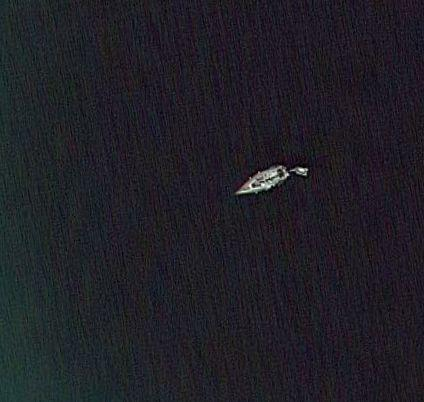Ships: (224, 158, 316, 201)
